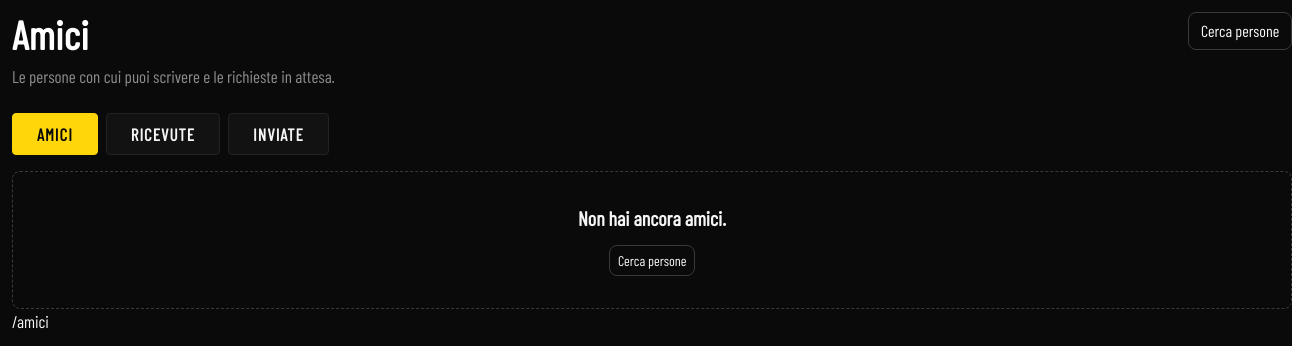
it: FriendsPage · schede › chiede l’elenco di una scheda solo quando la apri
The width and height of the screenshot is (1292, 346).
Check: the text "Non hai ancora amici." is shown, box [578,206,726,230]
Click the tab "Ricevute" at (163, 134), box [106,113,220,155]
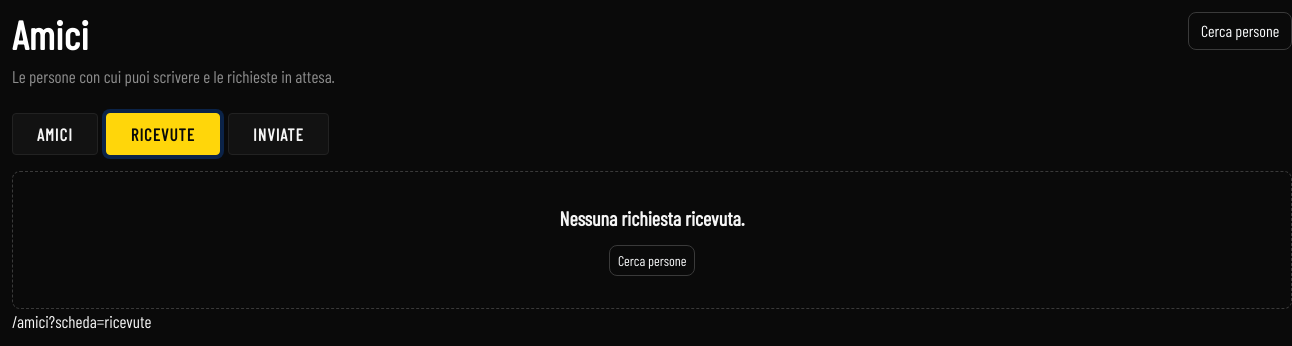
Check: the text "Nessuna richiesta ricevuta." is shown, box [560,206,744,230]
